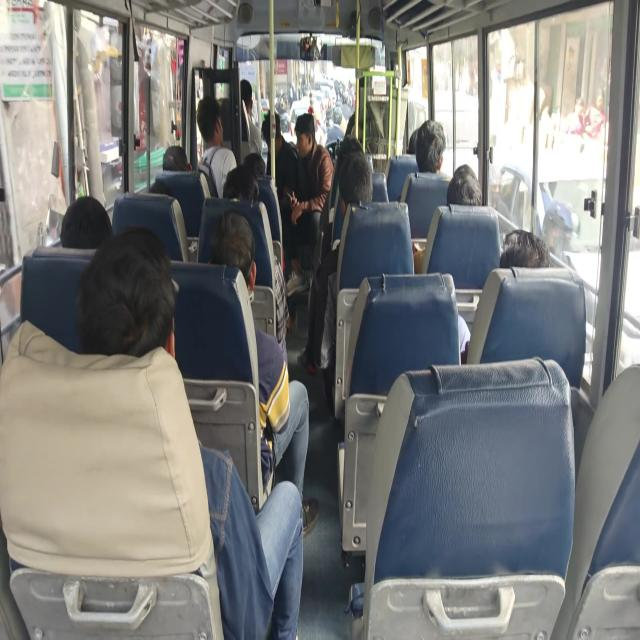person: (83, 237, 180, 335), (203, 217, 282, 280), (491, 211, 558, 283), (58, 193, 124, 263), (412, 100, 462, 184), (339, 150, 385, 230), (442, 155, 490, 218), (216, 165, 260, 209), (234, 77, 276, 120), (136, 165, 180, 202), (156, 137, 196, 176), (189, 102, 225, 136), (236, 141, 276, 170), (291, 112, 312, 162), (350, 68, 377, 98), (263, 110, 282, 148), (236, 81, 256, 116)
